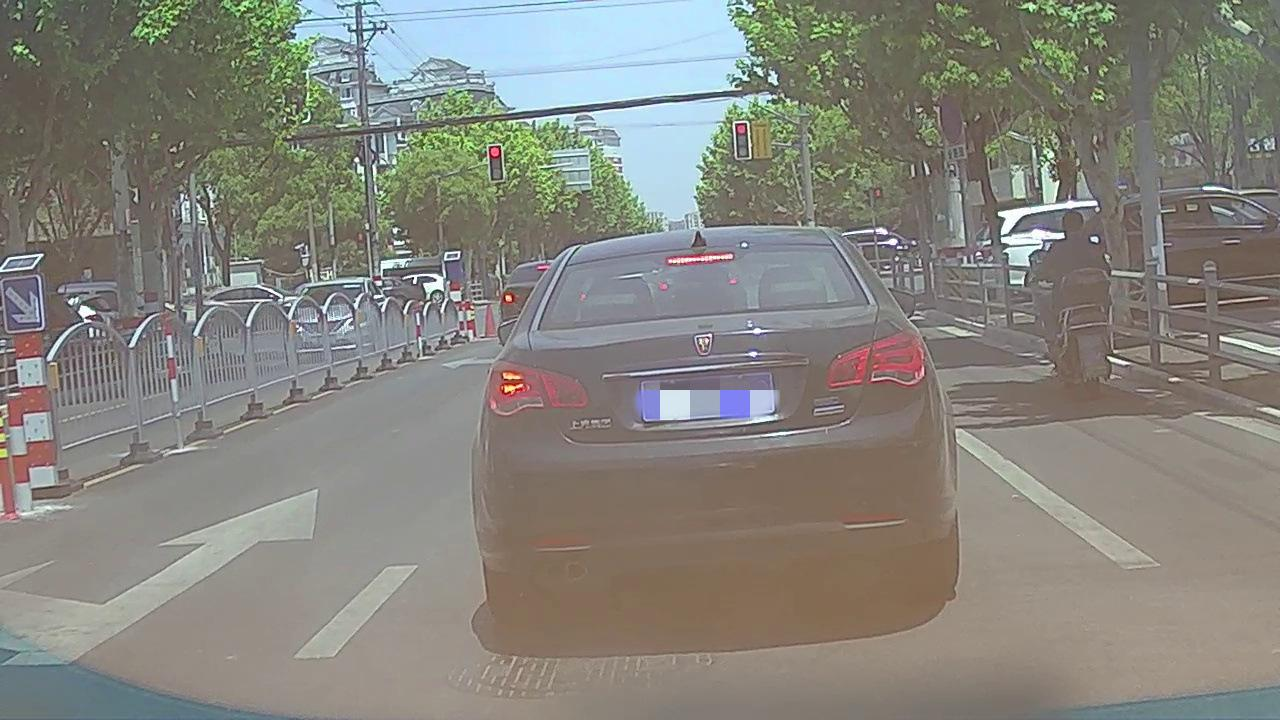traffic_light: (489, 144, 504, 182), (736, 121, 749, 158)
